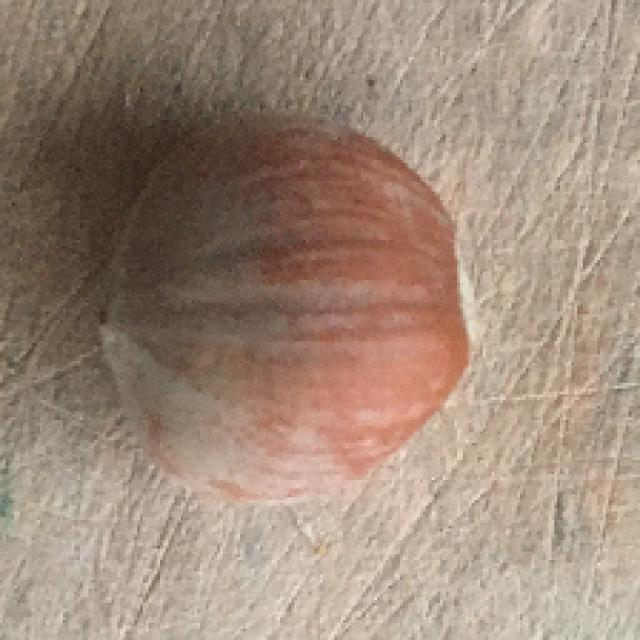qualityHazelnut: (98, 107, 478, 506)
